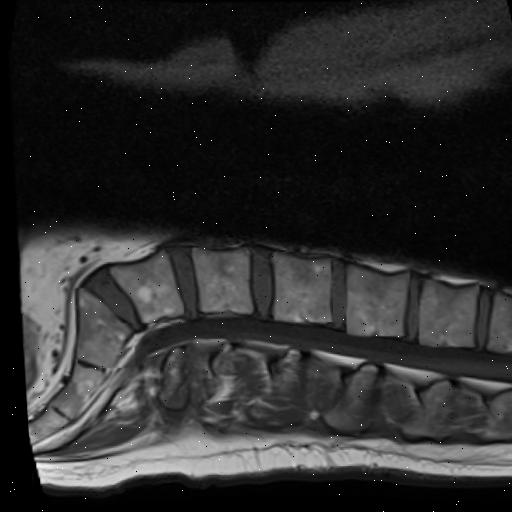L1: (413, 282, 474, 349)
L2: (340, 266, 405, 338)
L4: (268, 254, 327, 324), (188, 249, 248, 312)
L5: (107, 252, 178, 324)
S1: (71, 288, 126, 368)
